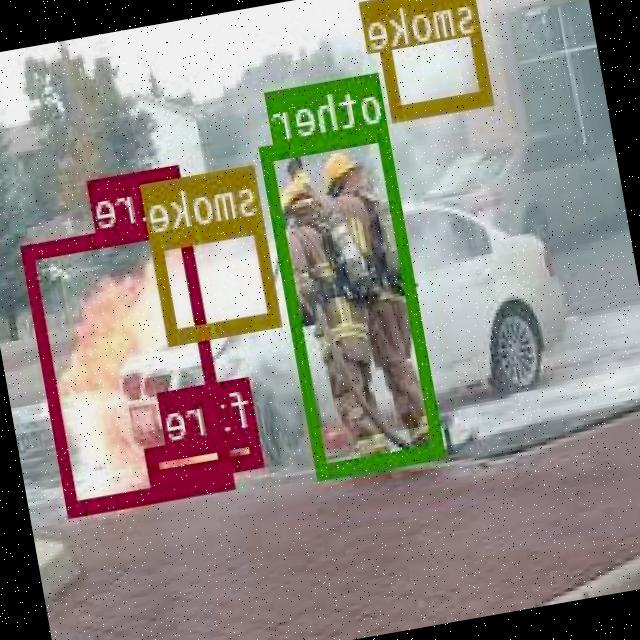fire: (23, 215, 236, 512), (147, 428, 265, 483)
smoke: (151, 214, 282, 343), (373, 0, 494, 118)
